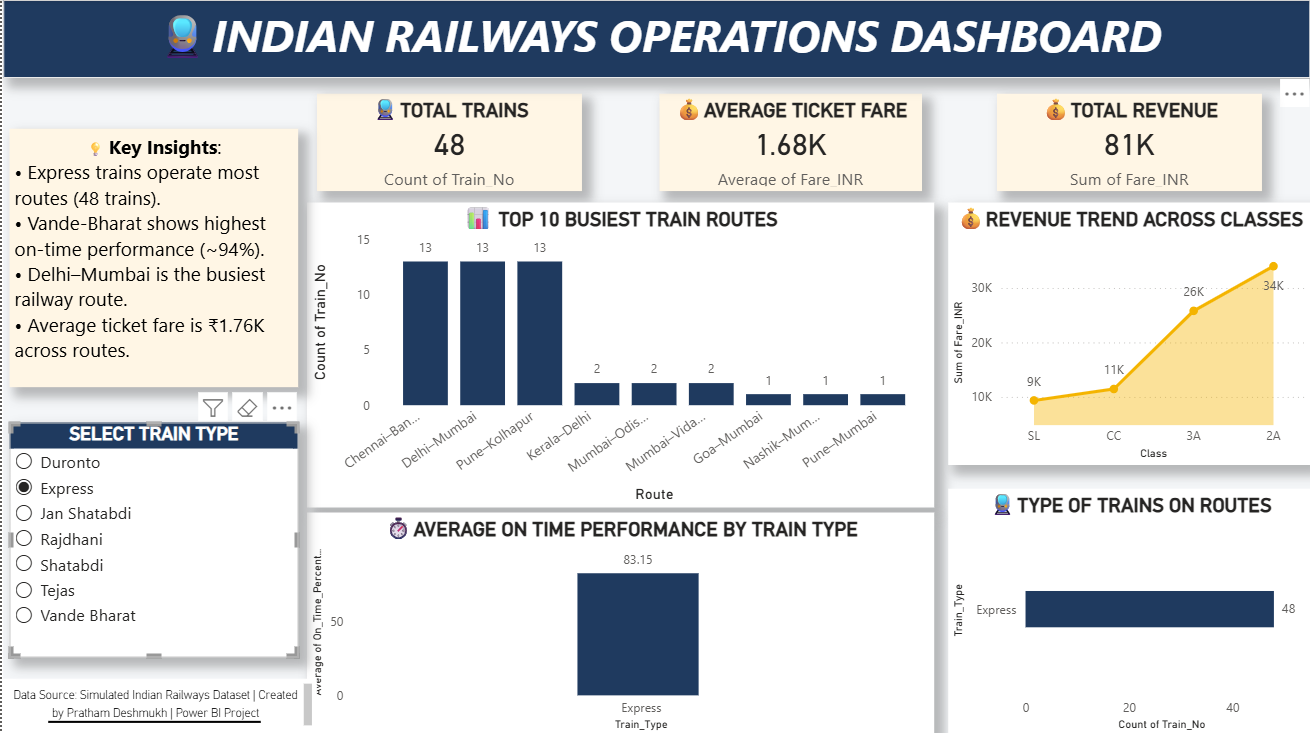

The page's visual inventory and layout, read from the dashboard file:
{"tool":"powerbi","page":{"name":"OVERVIEW","canvas":[1280,720],"ordinal":0},"visuals":[{"type":"shape","box":[1.2,0,1279.1,721.5],"z":0},{"type":"card","title":"🚆TOTAL TRAINS ","fields":{"Values":["CountNonNull(Trains_Data.Train_No)"]},"box":[308.2,91.7,259.2,95.4],"z":1000},{"type":"card","title":"💰AVERAGE TICKET FARE ","fields":{"Values":["Avg(Trains_Data.Fare_INR)"]},"box":[643.2,91.7,256.8,95.4],"z":2000},{"type":"clusteredColumnChart","title":"📊 TOP 10 BUSIEST TRAIN ROUTES ","fields":{"Category":["Trains_Data.Route"],"Y":["CountNonNull(Trains_Data.Train_No)"]},"box":[298.3,197.7,613.6,298.3],"z":3000},{"type":"clusteredColumnChart","title":"⏱️AVERAGE ON TIME PERFORMANCE BY TRAIN TYPE","fields":{"Category":["Trains_Data.Train_Type"],"Y":["Avg(Trains_Data.On_Time_Percentage)"]},"box":[298.4,501.4,613.9,218.9],"z":4000},{"type":"textbox","box":[1.2,0,1279.1,75.8],"z":5000},{"type":"textbox","box":[7.3,126,282.5,253.1],"z":6000},{"type":"card","title":"💰TOTAL REVENUE ","fields":{"Values":["Sum(Trains_Data.Fare_INR)"]},"box":[973.4,91.7,259.2,95.4],"z":7000},{"type":"lineChart","title":"💰REVENUE TREND ACROSS CLASSES ","fields":{"Category":["Trains_Data.Class"],"Y":["Sum(Trains_Data.Fare_INR)"]},"box":[925.7,198.1,354.6,256.8],"z":8000},{"type":"listSlicer","title":"SELECT TRAIN TYPE","fields":{"Values":["Trains_Data.Train_Type"]},"box":[7.3,413.3,282.5,229.9],"z":9000},{"type":"textbox","box":[0,664,308.2,56.3],"z":10000},{"type":"shape","box":[45.2,692.1,207.9,28.1],"z":11000},{"type":"clusteredBarChart","title":"🚆TYPE OF TRAINS ON ROUTES","fields":{"Category":["Trains_Data.Train_Type"],"Y":["CountNonNull(Trains_Data.Train_No)"]},"box":[925.7,478.1,354.6,242.1],"z":12000}]}

Visuals, with their boxes in screenshot pixels (x1, y1, x2, y2), scaled from the page's 1280x720 canvas onto the 1310x733 screenshot:
shape: [1,0,1309,732]
"🚆TOTAL TRAINS " card: [315,93,581,190]
"💰AVERAGE TICKET FARE " card: [658,93,921,190]
"📊 TOP 10 BUSIEST TRAIN ROUTES " clusteredColumnChart: [305,201,933,505]
"⏱️AVERAGE ON TIME PERFORMANCE BY TRAIN TYPE" clusteredColumnChart: [305,510,934,732]
textbox: [1,0,1309,77]
textbox: [7,128,297,386]
"💰TOTAL REVENUE " card: [996,93,1261,190]
"💰REVENUE TREND ACROSS CLASSES " lineChart: [947,202,1309,463]
"SELECT TRAIN TYPE" listSlicer: [7,421,297,655]
textbox: [0,676,315,732]
shape: [46,705,259,732]
"🚆TYPE OF TRAINS ON ROUTES" clusteredBarChart: [947,487,1309,732]
